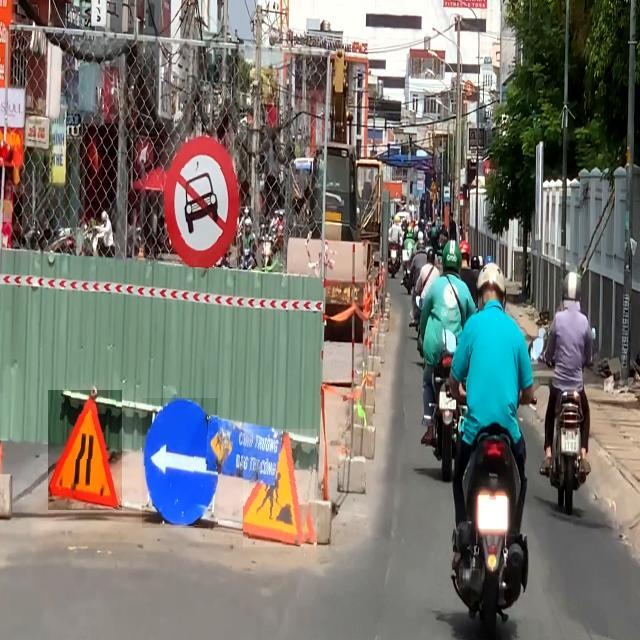P-103a: (164, 133, 241, 267)
R-301c: (143, 398, 219, 528)
W-203b: (48, 390, 122, 510)
W-227: (243, 429, 317, 547)
